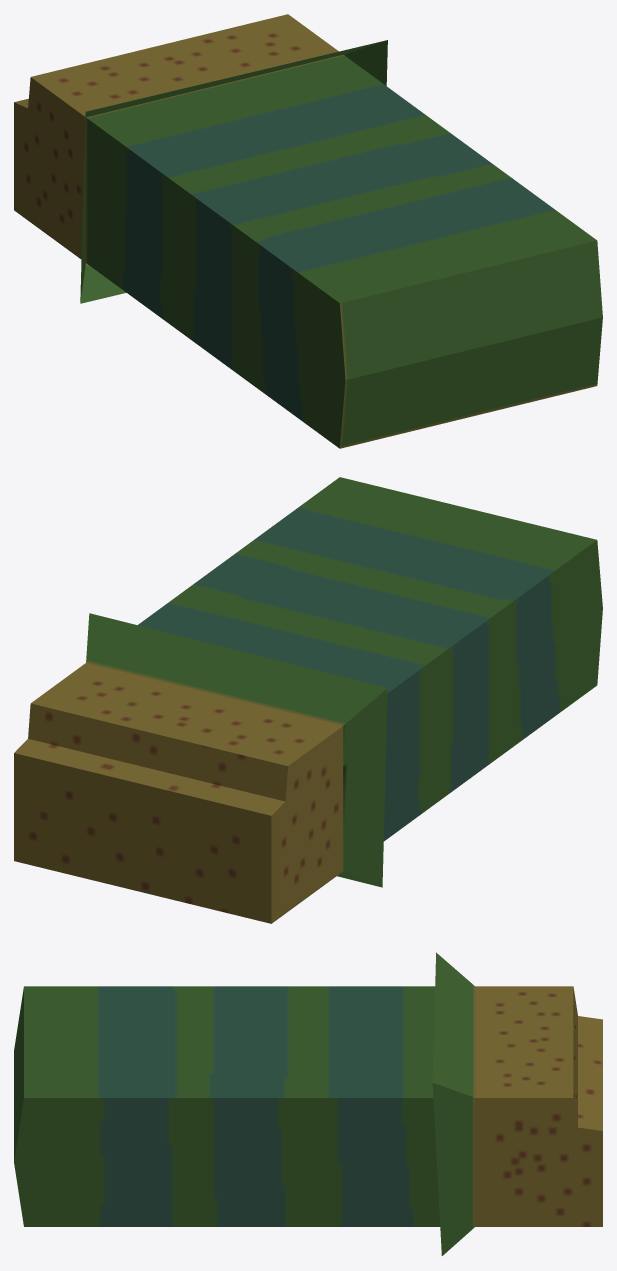
The model's file is healtItem.fbx.
3 views of the same model, one above another, from view 1: azimuth 30°, elevation 25°; view 2: azimuth 150°, elevation 25°; view 3: azimuth 270°, elevation 25° (orthographic). The views are drawn at different scales.
Parts seen in each view (by area): view 1: Cube; view 2: Cube; view 3: Cube.
Boxes of the visible parts, x1=… form: Cube: x1=14, y1=14, x2=602, y2=448; Cube: x1=14, y1=477, x2=602, y2=923; Cube: x1=14, y1=952, x2=602, y2=1255.
Bounding box in the file's own units: 233 × 145 × 446.
